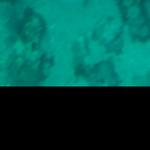dead: (1, 10, 149, 86)
